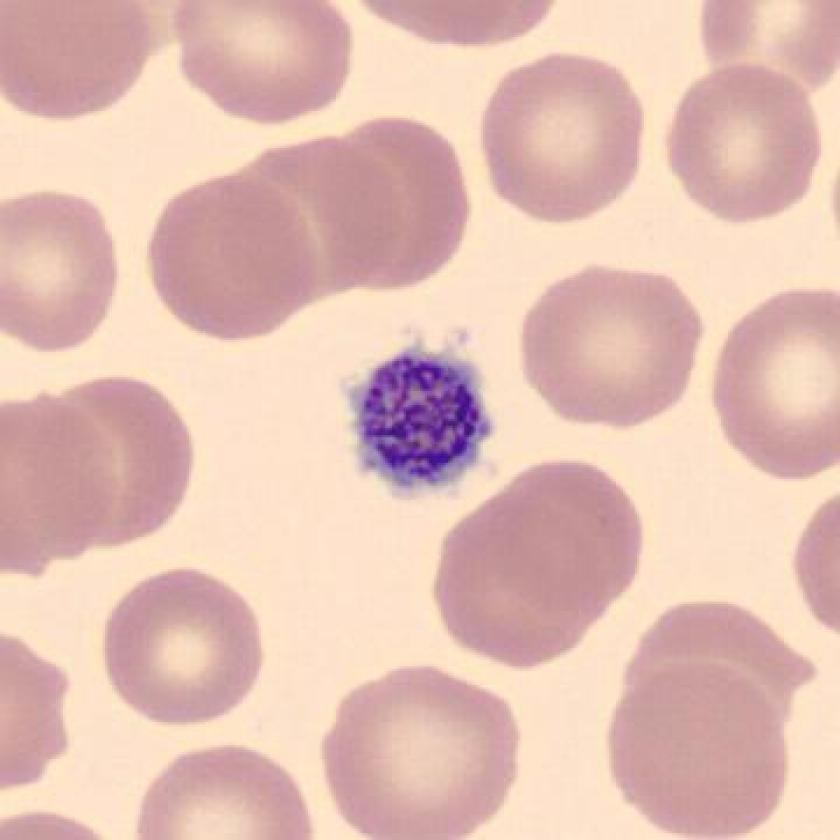platelets: (344, 337, 498, 510)
